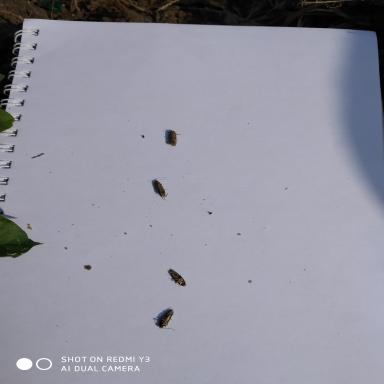pbw: (151, 179, 168, 199), (168, 269, 187, 286), (160, 308, 174, 328), (166, 128, 179, 146)
